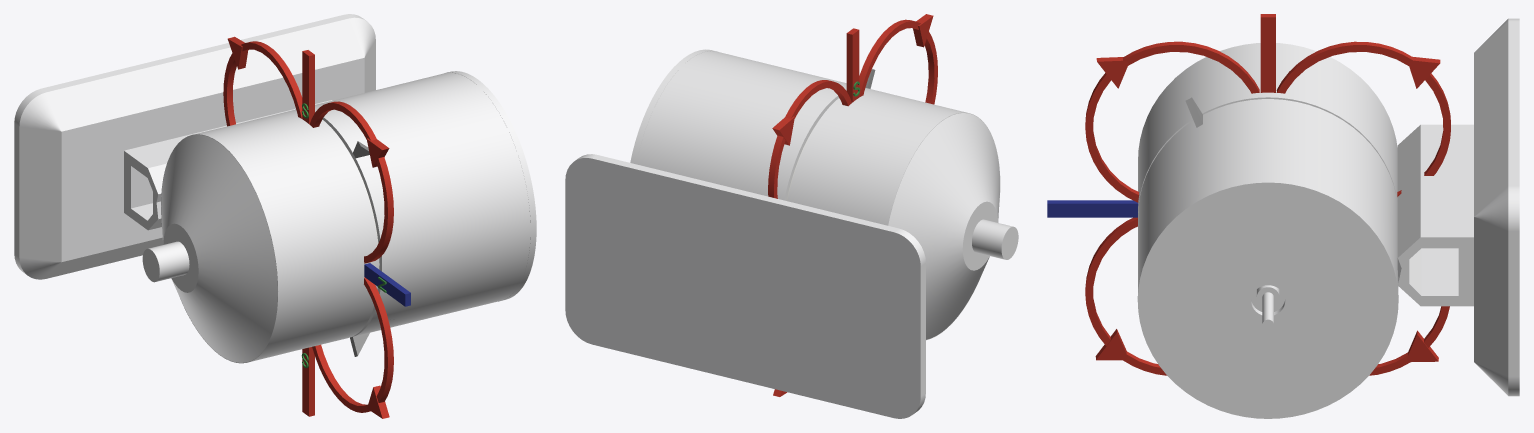
File: AsyncEngine v2.fbx
3 views of the same model, side by side, from view 1: azimuth 30°, elevation 25°; view 2: azimuth 150°, elevation 25°; view 3: azimuth 270°, elevation 25° (orthographic). The views are drawn at different scales.
Parts seen in each view (by area): view 1: двигатель v23; view 2: двигатель v23; view 3: двигатель v23.
Part boxes in pixels (x1=…): двигатель v23: x1=14, y1=14, x2=536, y2=418; двигатель v23: x1=565, y1=14, x2=1018, y2=418; двигатель v23: x1=1047, y1=14, x2=1519, y2=418.
Size of the model in its own units: 66.49 by 58 by 62.
